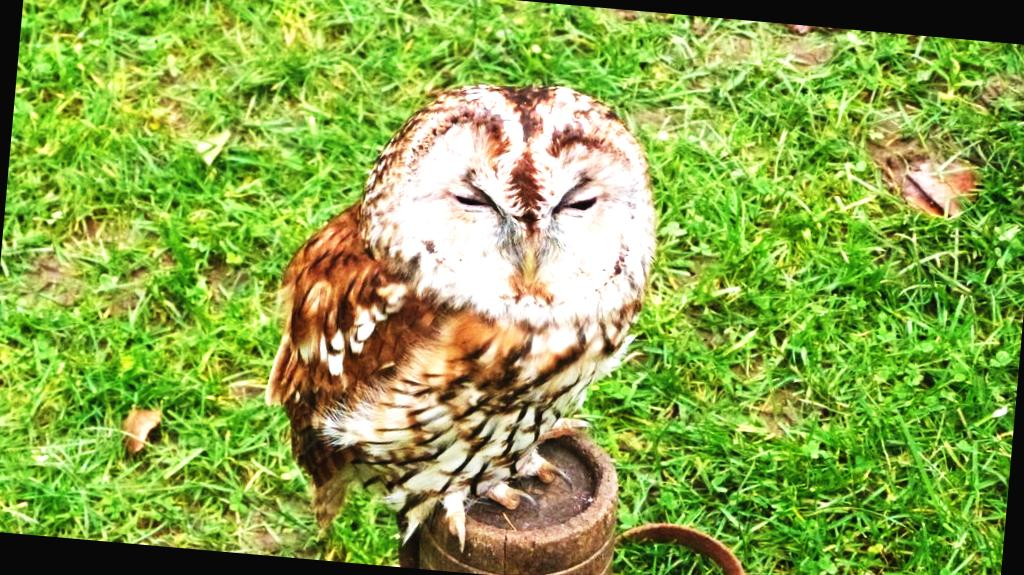Owl: (242, 46, 670, 568)
